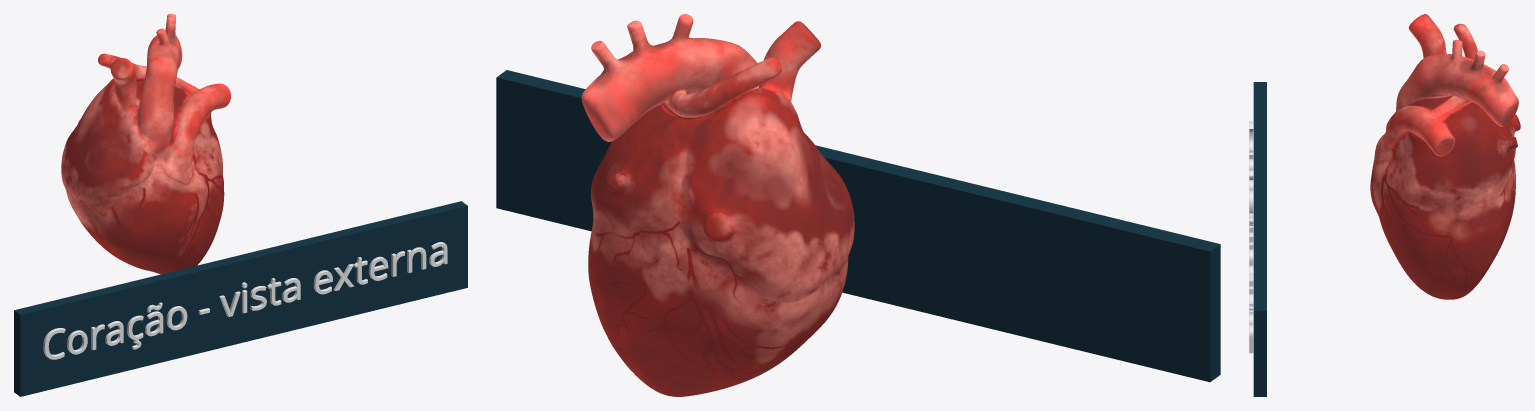
Rendered from nivel-1.glb.
The picture shows the model from 3 angles, left to right: view 1: azimuth 30°, elevation 25°; view 2: azimuth 150°, elevation 25°; view 3: azimuth 270°, elevation 25°; orthographic projection. The views are drawn at different scales.
Visible parts, largest first — view 1: placa_solida, ciclo0_hartZBrush_defualt_group_Heart_Tex_0, texto_em_relevo; view 2: ciclo0_hartZBrush_defualt_group_Heart_Tex_0, placa_solida; view 3: ciclo0_hartZBrush_defualt_group_Heart_Tex_0, placa_solida, texto_em_relevo.
Part boxes in pixels (bbox=[...]): placa_solida: bbox=[14, 201, 467, 396]; ciclo0_hartZBrush_defualt_group_Heart_Tex_0: bbox=[61, 14, 230, 274]; texto_em_relevo: bbox=[43, 242, 447, 359]; ciclo0_hartZBrush_defualt_group_Heart_Tex_0: bbox=[581, 14, 854, 396]; placa_solida: bbox=[496, 70, 1220, 382]; ciclo0_hartZBrush_defualt_group_Heart_Tex_0: bbox=[1370, 14, 1520, 299]; placa_solida: bbox=[1253, 82, 1266, 396]; texto_em_relevo: bbox=[1249, 121, 1253, 353].
Size of the model in its own units: 0.2 by 0.1032 by 0.1002.
3 materials, 1 textured.
